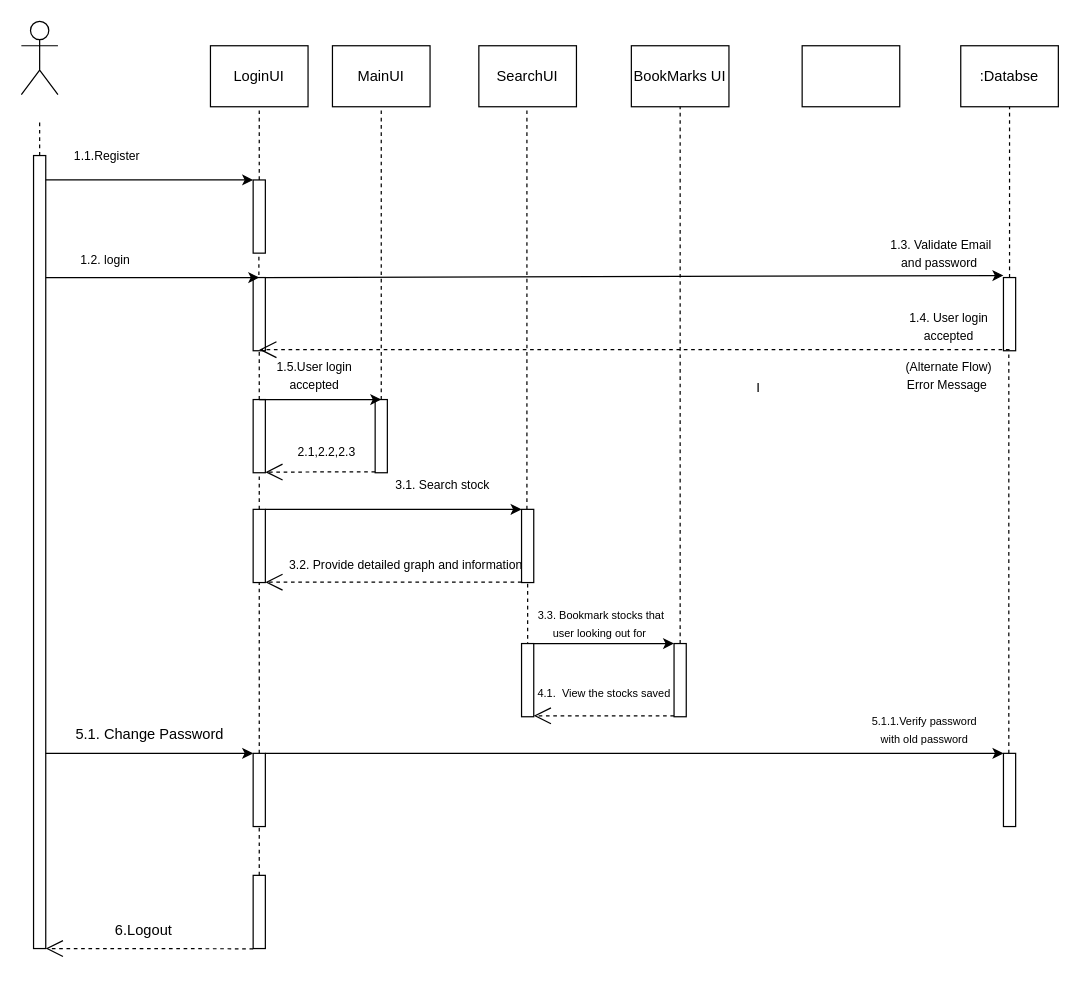
This 1080x988 diagram has some shape labels left out. Here are the shapes that lost their labels. From the top down, the centre of each, then its label:
At point (39, 57): "Actor".
At point (850, 76): "Profile Page".
